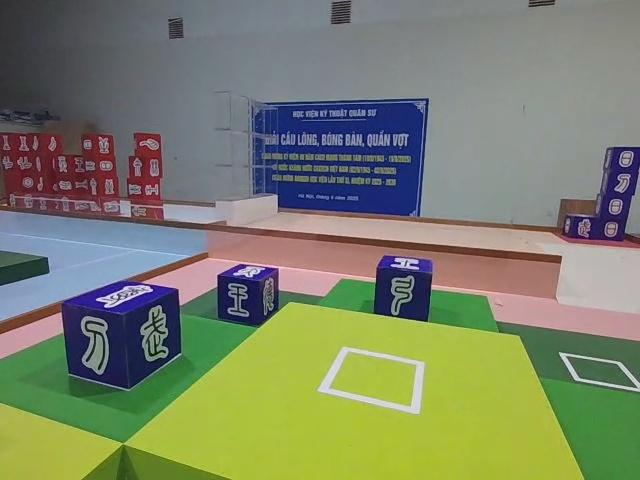R2 Fake Blue: (64, 281, 184, 393), (374, 254, 436, 324), (214, 262, 278, 326)
